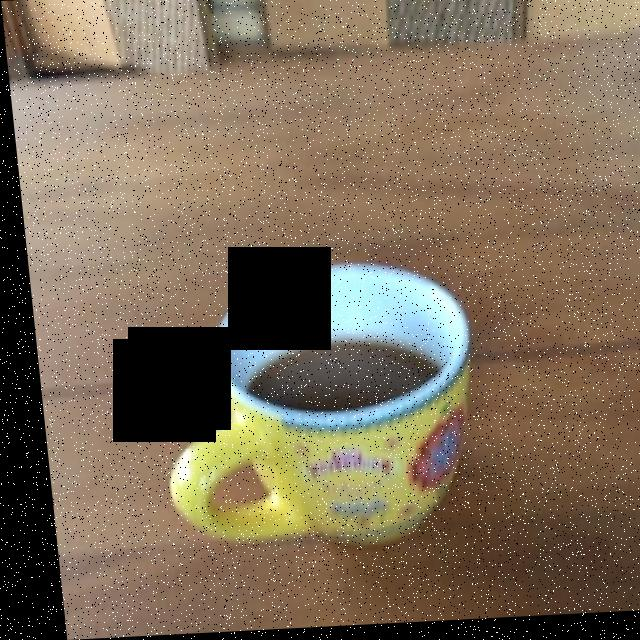coffee-with-caffeine: (246, 342, 438, 415)
